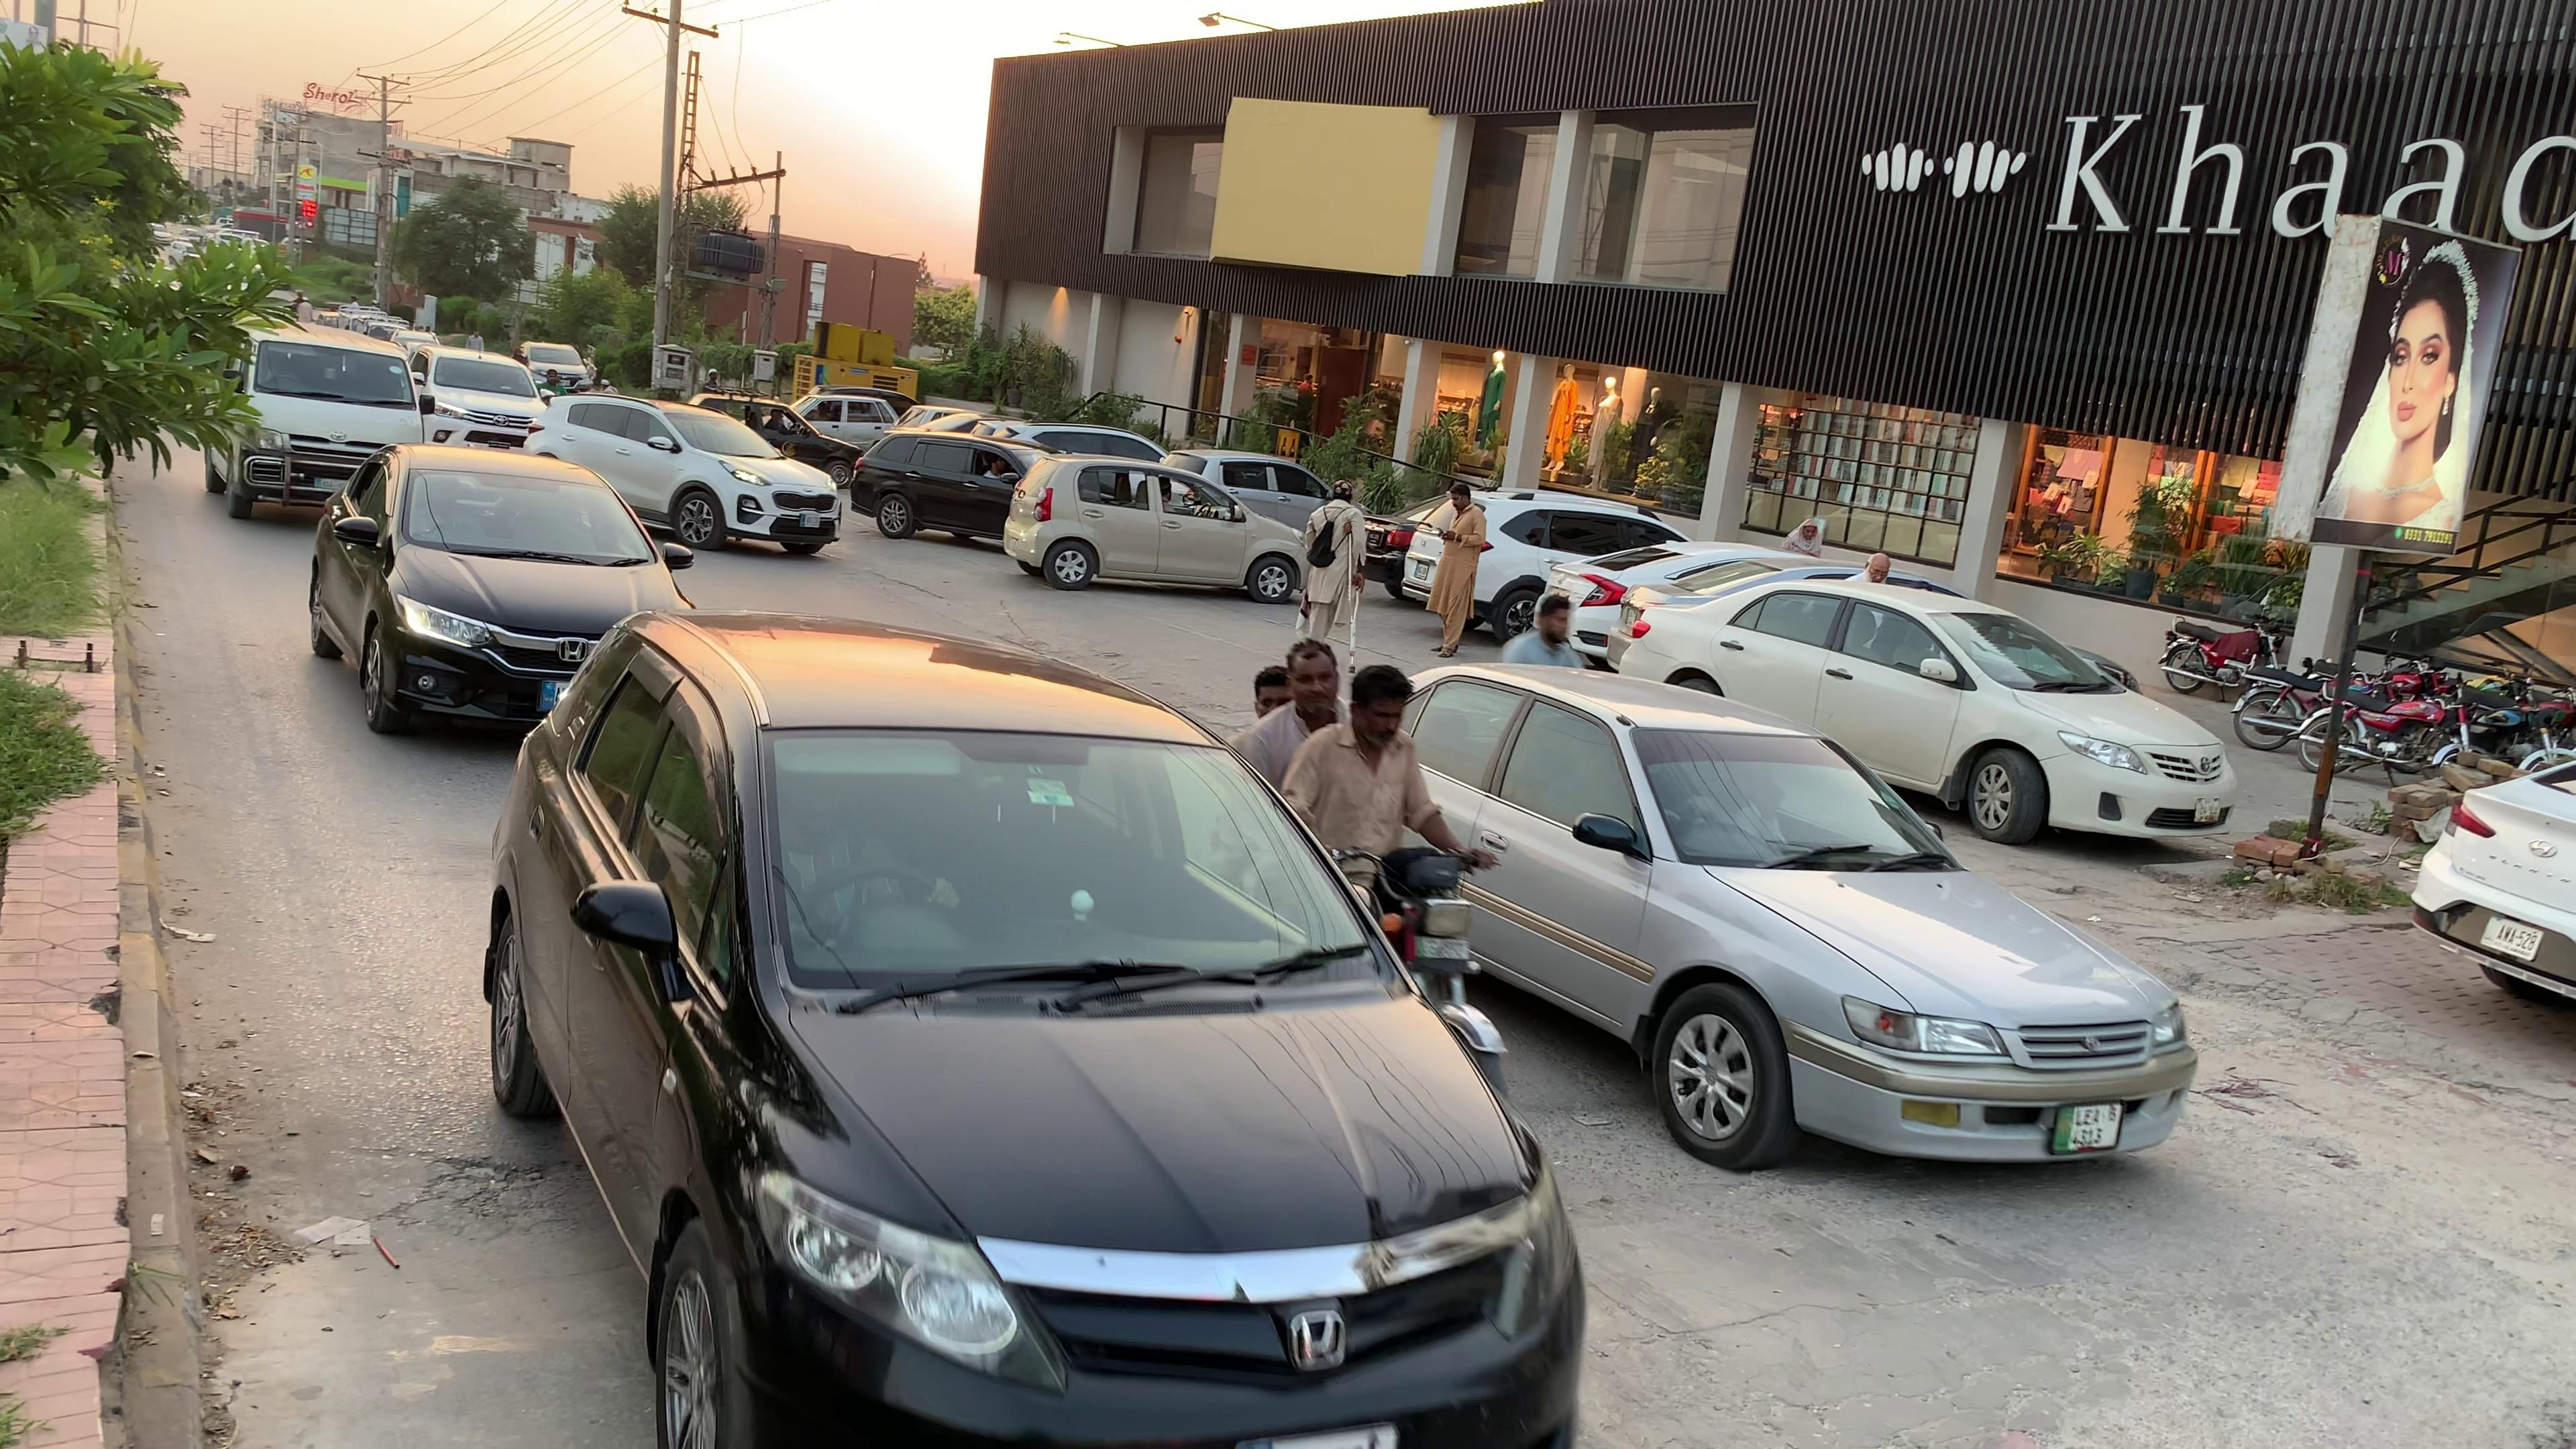windshield: (759, 722, 1396, 996), (1617, 725, 1955, 872), (400, 467, 672, 561)
